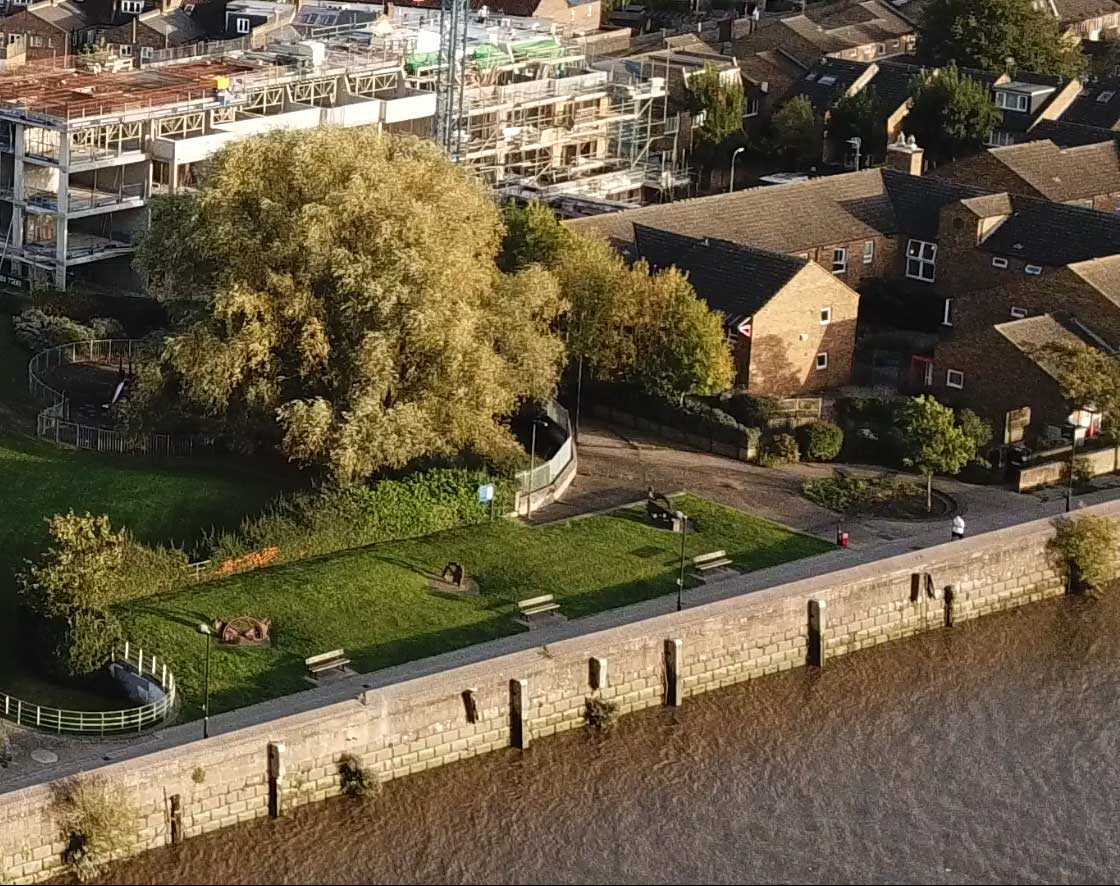building: (580, 158, 1120, 463)
tree: (159, 127, 569, 469)
water: (659, 701, 1080, 865)
